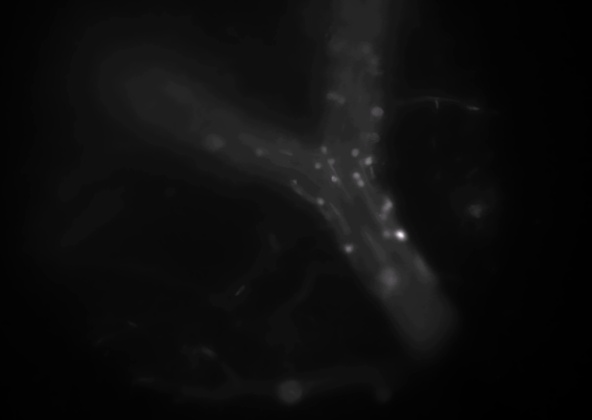cell: (394, 229, 408, 243), (369, 104, 383, 118), (348, 146, 362, 160), (362, 155, 376, 169), (317, 142, 331, 156), (310, 157, 324, 171), (324, 155, 338, 169), (327, 89, 341, 103), (350, 169, 364, 183), (332, 93, 346, 107), (355, 177, 369, 191), (341, 241, 355, 255), (382, 271, 396, 285), (377, 226, 391, 240), (381, 198, 395, 212), (376, 207, 390, 221), (379, 200, 393, 214), (313, 195, 327, 209), (289, 177, 303, 191), (253, 144, 267, 158), (208, 136, 222, 150), (358, 43, 372, 57), (367, 56, 381, 70), (332, 39, 346, 53), (326, 172, 340, 186), (368, 131, 382, 145)
